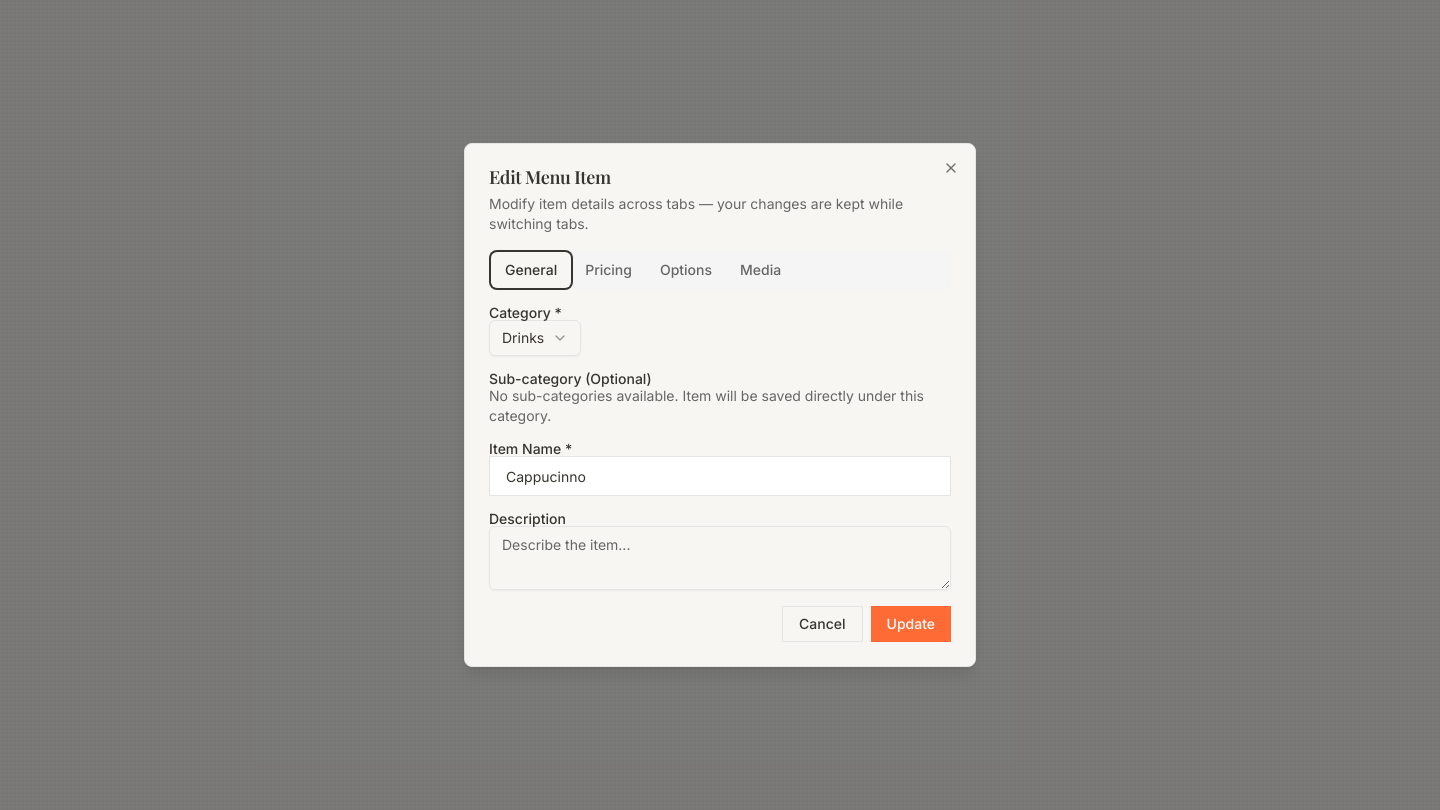
Test: #229 the menu item editor stops hiding, and stops deleting, a stored variant group › says out loud that the group is not reaching customers
Press the mouse on the tab "Pricing" at (609, 270), box x1=573 y1=254 x2=644 y2=286
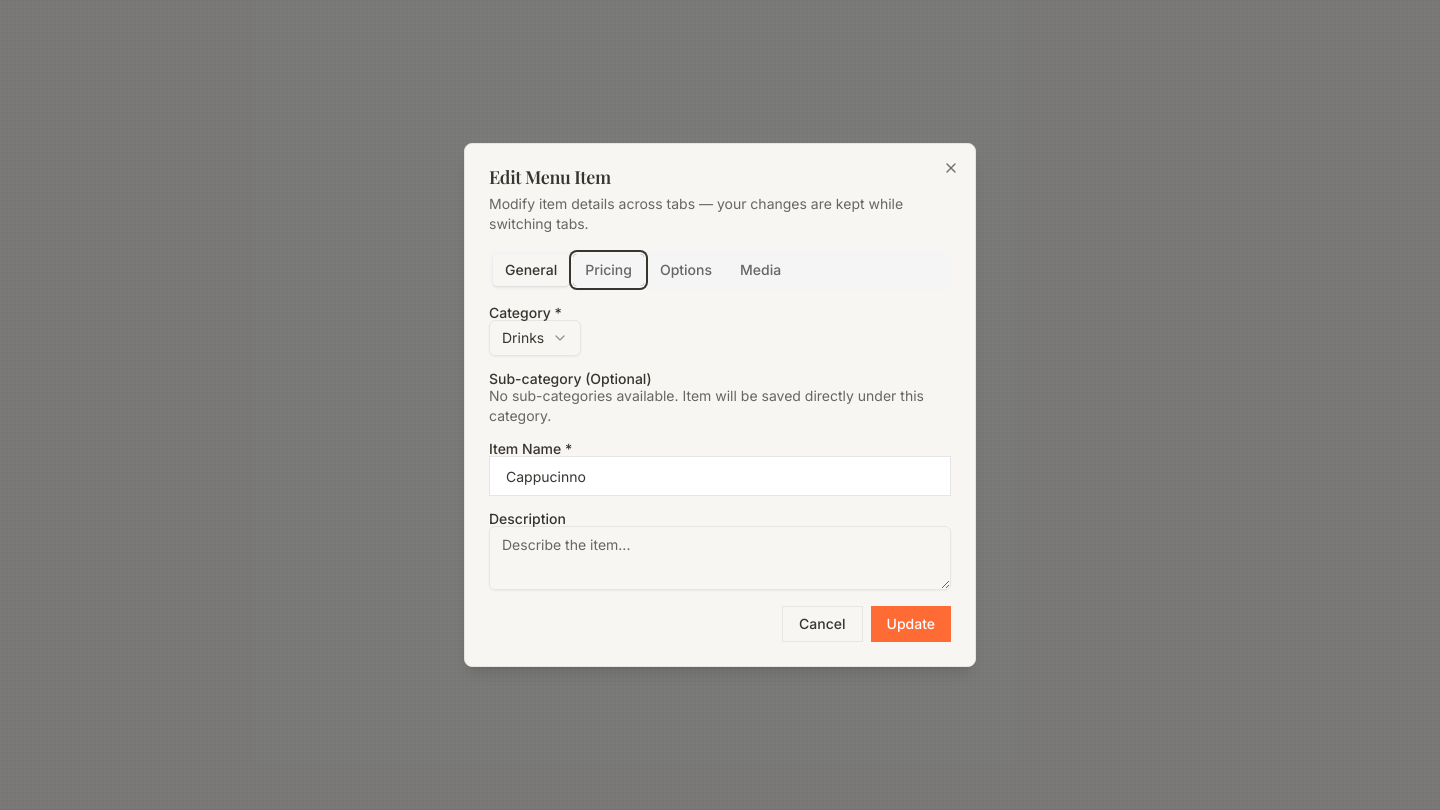
Click the tab "Pricing" at (609, 270), box x1=573 y1=254 x2=644 y2=286
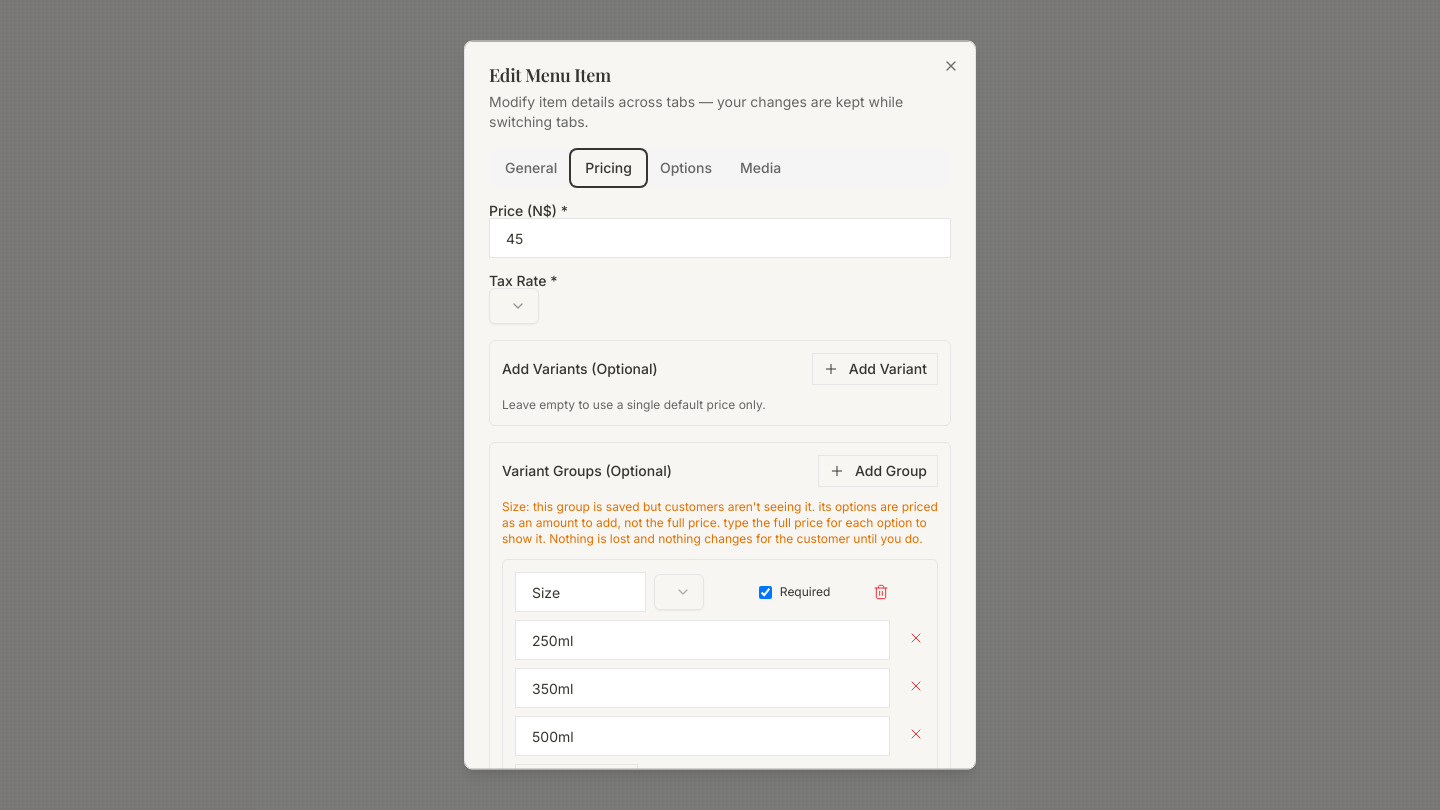
Result: the text with test id "variant-group-unconvertible" shows "Size" at x1=502 y1=498 x2=938 y2=546
